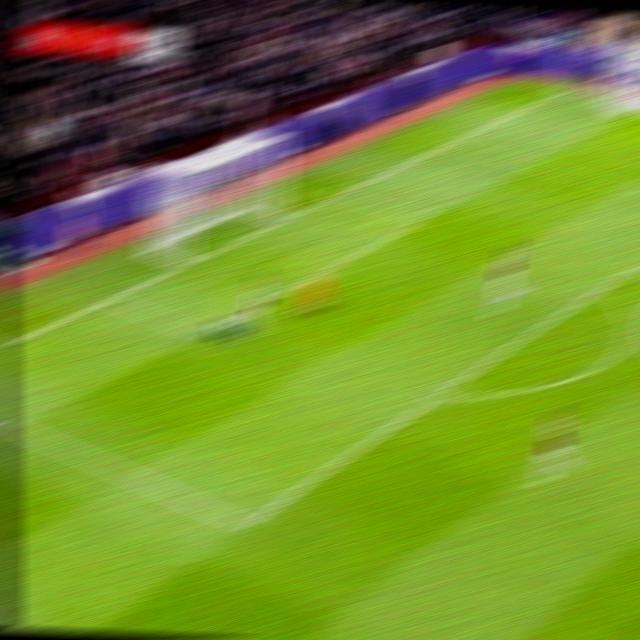bigarea_bottom_inner: (228, 510, 263, 540)
bigarea_top_outter: (433, 133, 464, 150)
bottom_arc_area_intersection: (421, 381, 455, 405)
corner: (548, 81, 582, 95)
smallarea_bottom_inner: (186, 320, 219, 345)
smallarea_bottom_outter: (92, 285, 125, 309)
smallarea_top_inner: (406, 207, 439, 229)
smallarea_top_outter: (324, 182, 354, 203)
top_arc_area_intersection: (592, 272, 623, 292)
